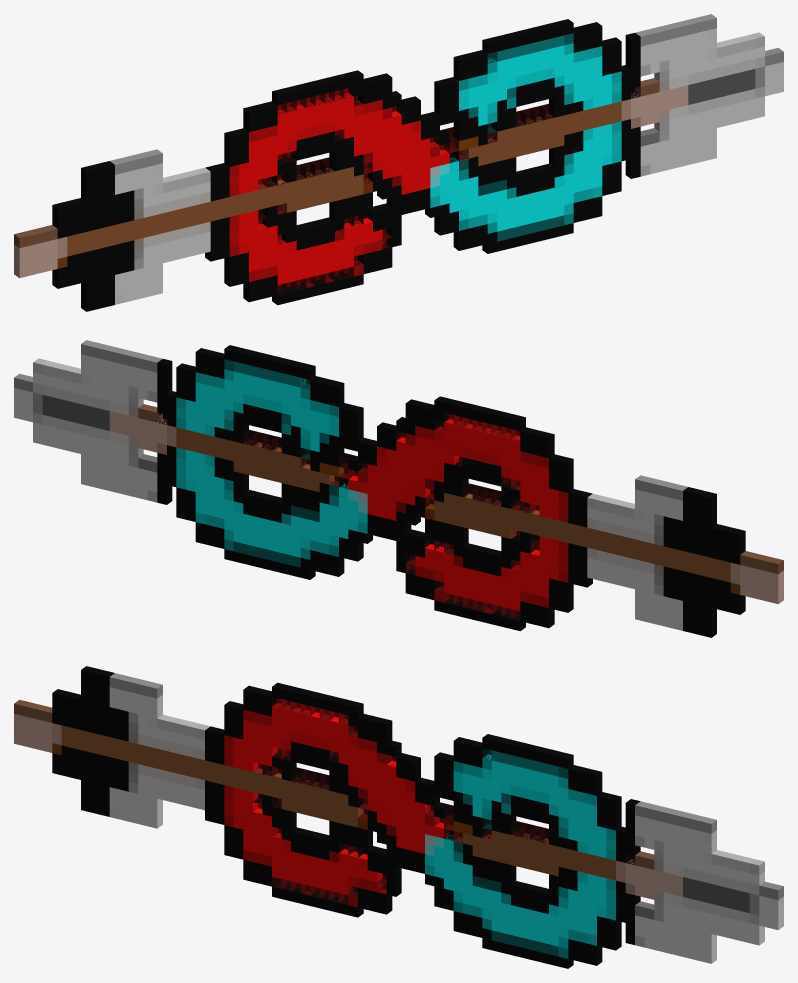
Rendered from infinityrelic.fbx.
The picture shows the model from 3 angles, top to bottom: view 1: azimuth 30°, elevation 25°; view 2: azimuth 150°, elevation 25°; view 3: azimuth 330°, elevation 25°; orthographic projection.
Parts seen in each view (by area): view 1: infinityrelic; view 2: infinityrelic; view 3: infinityrelic.
Boxes of the visible parts, left/top/right/bottom form: infinityrelic: left=14, top=14, right=783, bottom=311; infinityrelic: left=14, top=340, right=783, bottom=637; infinityrelic: left=14, top=666, right=783, bottom=968.
Size of the model in its own units: 7900 by 2074 by 98.75.
